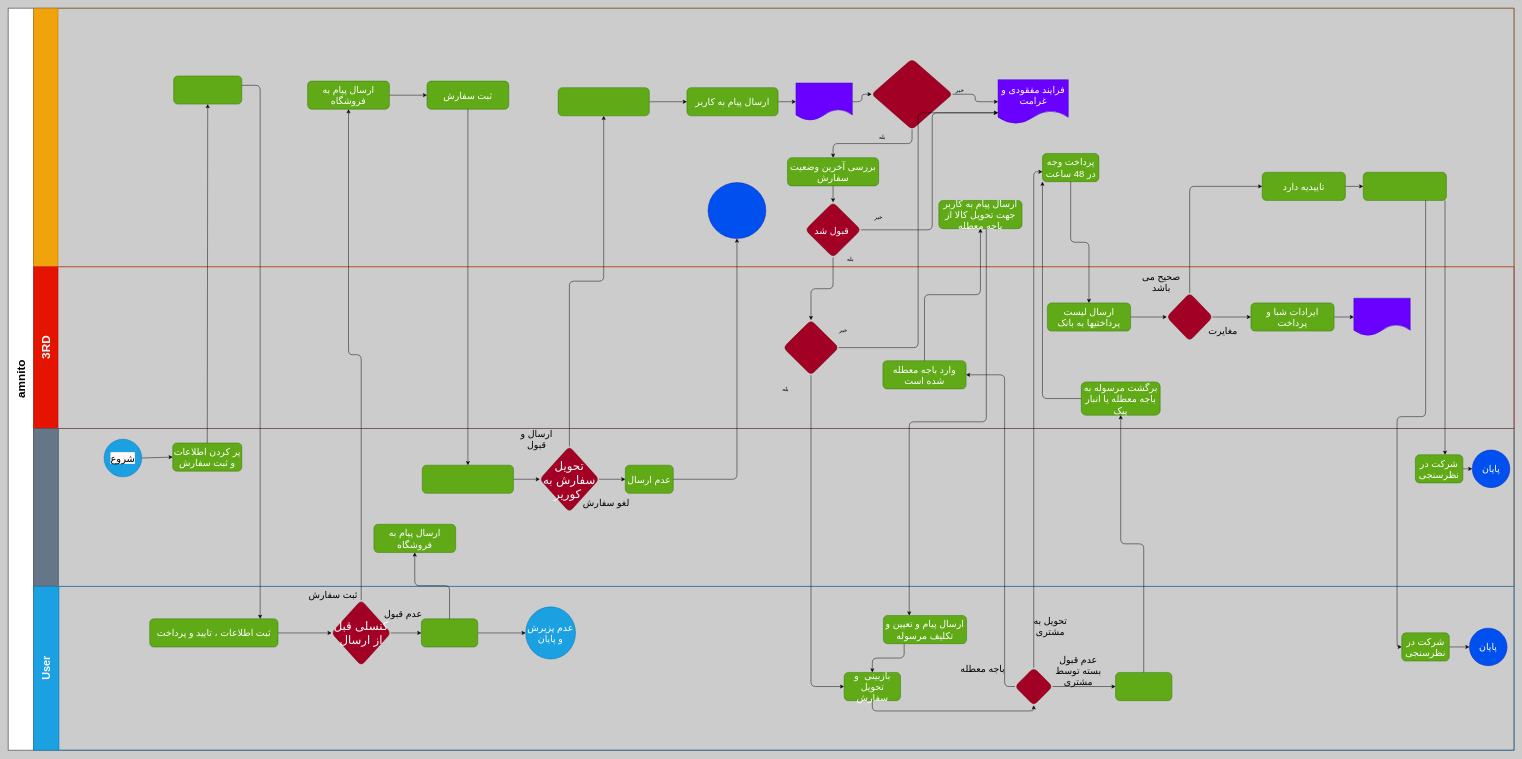
This 1522x759 diagram has some shape labels left out. Each missing label, with the box of its shape:
Postex: (33, 8, 1514, 267)
Store: (33, 428, 1514, 586)
آماده کردن سفارش و ارسال: (422, 465, 513, 493)
ارسال بسته: (795, 82, 852, 121)
ارسال پیام به یوزر: (173, 75, 242, 104)
بررسی اطلاعات: (1166, 293, 1213, 341)
برگشت کالا: (1115, 672, 1172, 701)
تغییر وضعیت در 24 ساعت گذشته: (783, 320, 839, 375)
تغییر وضعیت در 24 ساعت گذشته داشته است(کاری): (871, 59, 952, 129)
تغییر وضعیت سفارش: (558, 87, 649, 116)
عدم قبول سفارش: (421, 618, 478, 647)
عودت وجه: (708, 182, 766, 239)
فرایند رفع ایراد اطلاعات بانکی: (1353, 298, 1410, 336)
وضعیت بسته: (1014, 667, 1053, 705)
پیام برای فروشگاه و کاربر جهت نظرسنجی: (1363, 172, 1446, 200)
